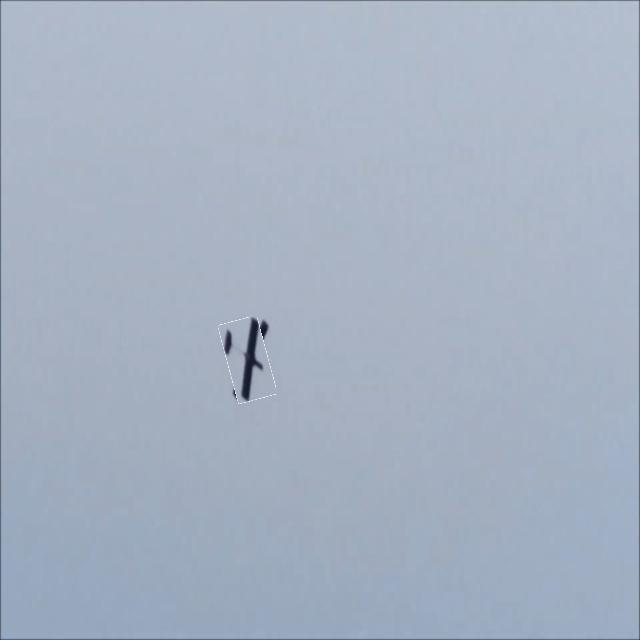UAV: (224, 322, 299, 402)
